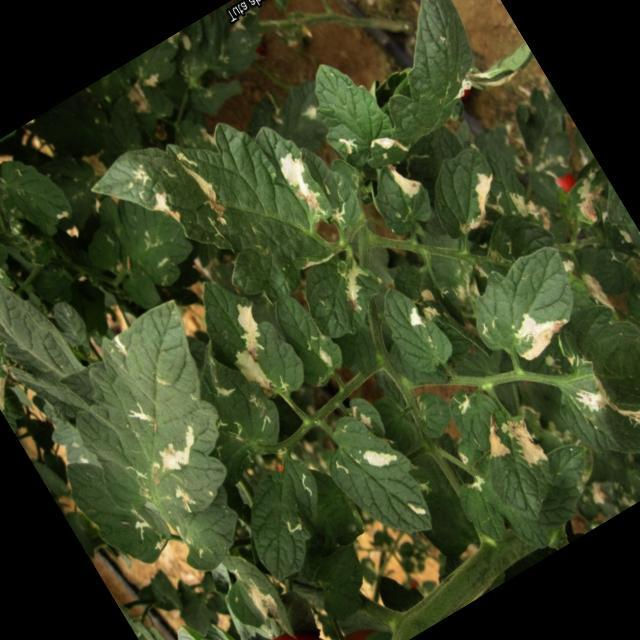Tomato target spot leaf: (4, 292, 308, 616), (83, 59, 384, 356), (444, 226, 603, 379), (182, 258, 321, 424), (312, 403, 448, 561), (458, 400, 577, 534), (538, 329, 640, 483), (404, 128, 522, 250), (365, 269, 462, 385)
